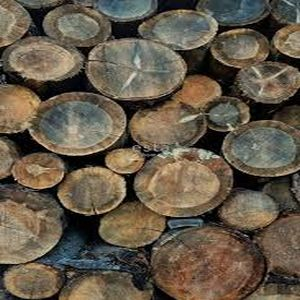log: (147, 220, 266, 300), (148, 221, 268, 300), (134, 145, 232, 219), (26, 91, 130, 157), (86, 36, 187, 101), (1, 187, 64, 263), (219, 117, 300, 175), (1, 35, 84, 88), (128, 101, 208, 155), (137, 7, 219, 53), (58, 166, 127, 219), (97, 198, 166, 251), (233, 60, 300, 107), (42, 4, 113, 47), (1, 259, 65, 300), (222, 189, 281, 233), (209, 27, 270, 68), (11, 151, 65, 191), (171, 73, 224, 112), (201, 94, 253, 132), (103, 147, 147, 178)
